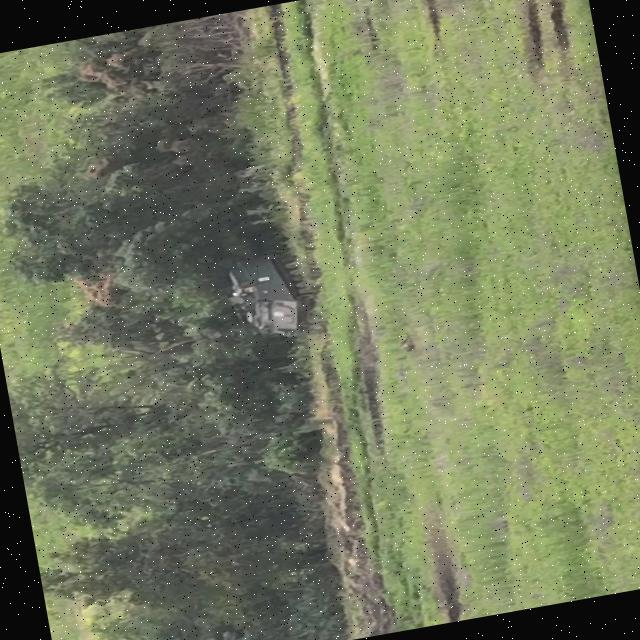APC: (219, 247, 328, 347)
